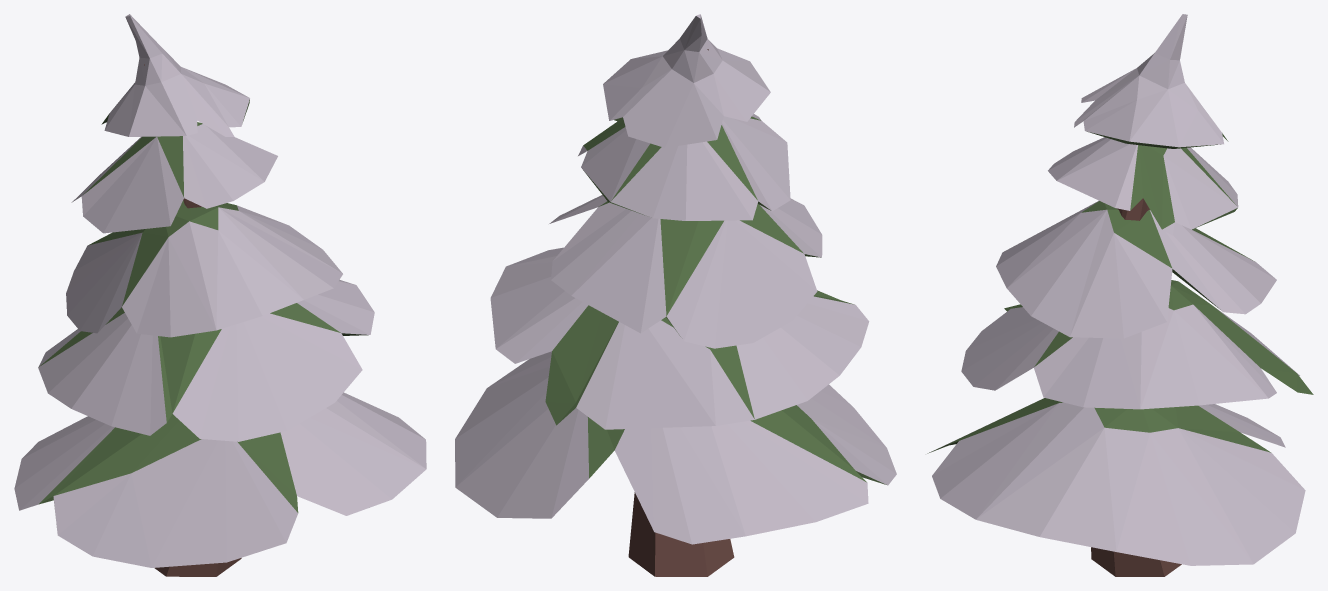
The model's file is PineTree_Snow_1.lod2.glb.
The picture shows the model from 3 angles, left to right: view 1: azimuth 30°, elevation 25°; view 2: azimuth 150°, elevation 25°; view 3: azimuth 270°, elevation 25°; orthographic projection. The views are drawn at different scales.
Parts seen in each view (by area): view 1: PineTree_Snow_1; view 2: PineTree_Snow_1; view 3: PineTree_Snow_1.
Part boxes in pixels (box(x1,y1,x2,y2)): PineTree_Snow_1: box(14, 14, 426, 576); PineTree_Snow_1: box(455, 14, 896, 576); PineTree_Snow_1: box(927, 14, 1313, 576).
Size of the model in its own units: 1.95 by 2.7 by 1.81.
